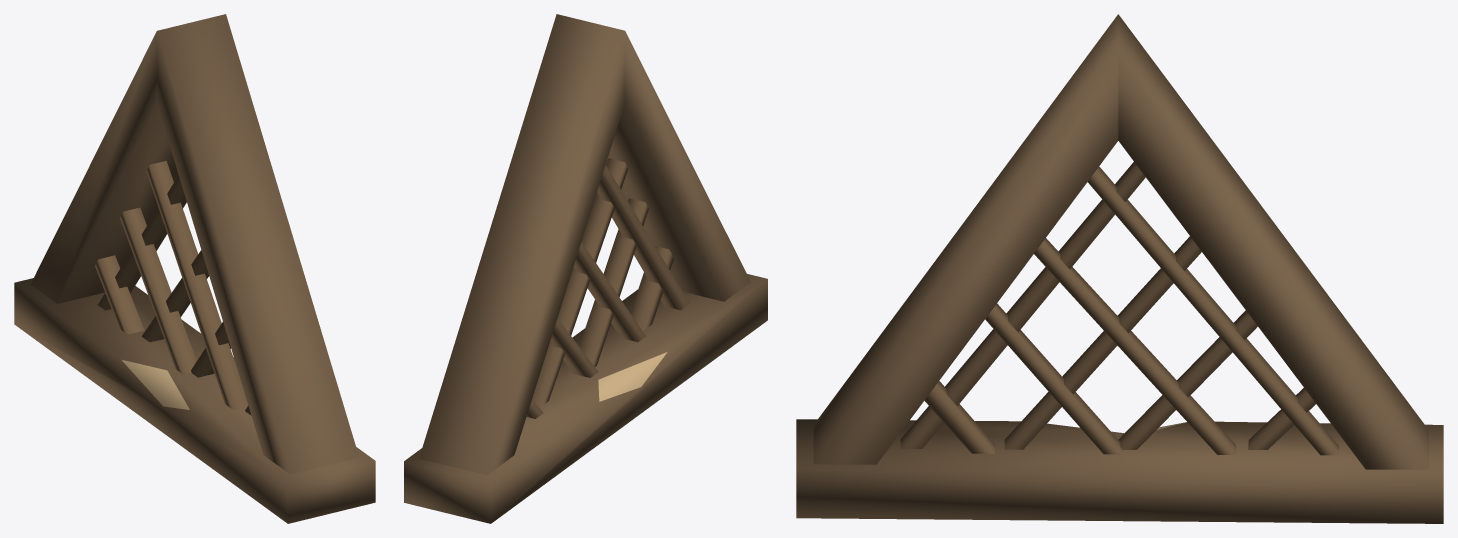
Rendered from rpgpp_ag_roof_01c_half_window_03.fbx.
The picture shows the model from 3 angles, left to right: view 1: azimuth 30°, elevation 25°; view 2: azimuth 150°, elevation 25°; view 3: azimuth 270°, elevation 25°; orthographic projection. The views are drawn at different scales.
Visible parts, largest first — view 1: rpgpp_ag_roof_01c_half_window_03; view 2: rpgpp_ag_roof_01c_half_window_03; view 3: rpgpp_ag_roof_01c_half_window_03.
Part boxes in pixels (box(x1,y1,x2,y2)): rpgpp_ag_roof_01c_half_window_03: box(14, 14, 375, 523); rpgpp_ag_roof_01c_half_window_03: box(404, 14, 767, 523); rpgpp_ag_roof_01c_half_window_03: box(796, 14, 1443, 523).
Bounding box in the file's own units: 0.5494 × 2.29 × 2.91.
